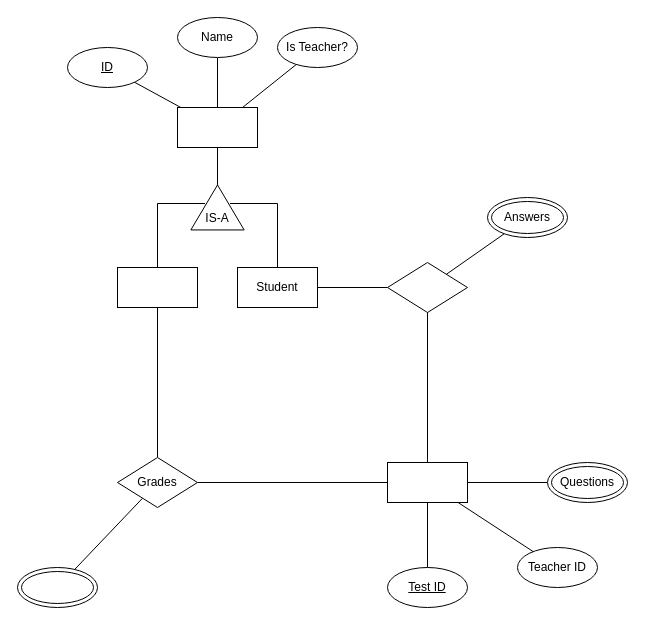
The diagram is 645 pixels wide and 625 high, and some of its shapes have lost their labels. The centre of each missing label's shape, as x and y in pixels:
"Account" belongs at point (217, 127).
"Results" belongs at point (57, 587).
"Takes" belongs at point (427, 287).
"Teacher" belongs at point (157, 287).
"Test" belongs at point (427, 482).
